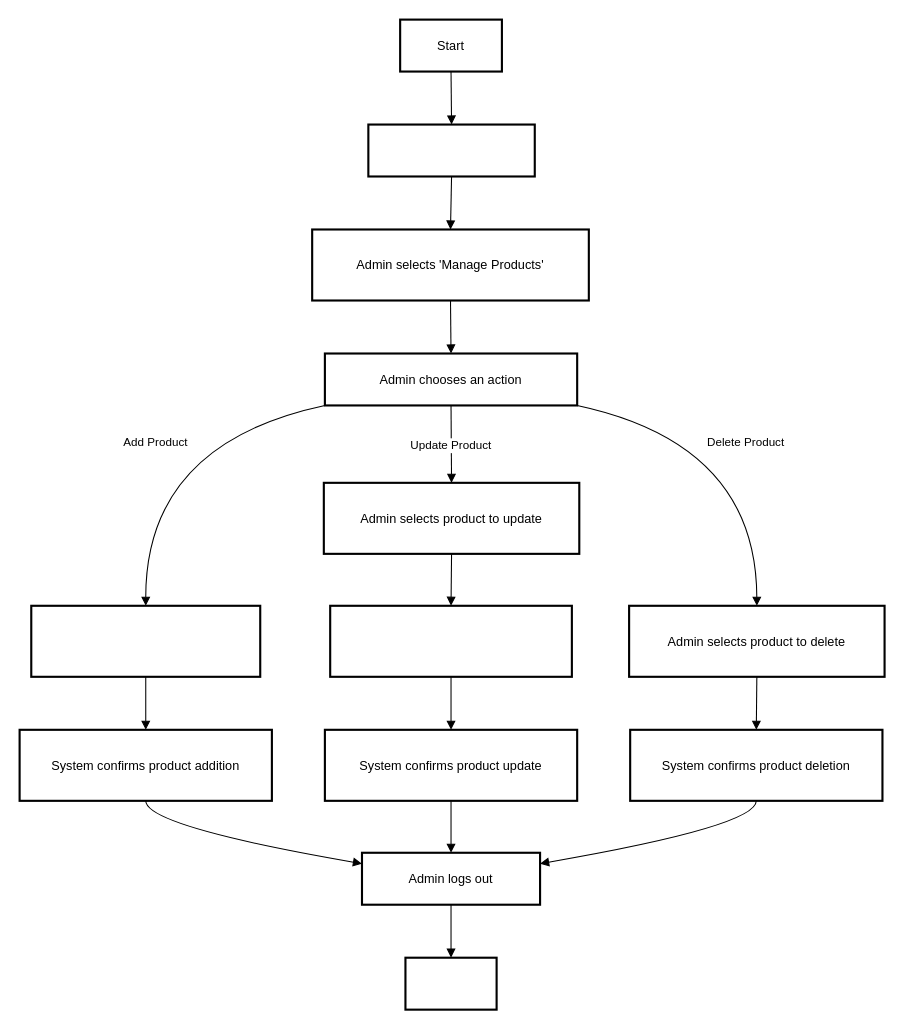
Some shapes in this 903 by 1028 pixel diagram are drawn without their labels. The shapes that lost their labels are listed below. From the top down, each one's centre as x and y in pixels, then its label:
At point 451,150: "Admin logs in".
At point 145,640: "Admin inputs product details".
At point 450,640: "Admin updates product details".
At point 450,983: "End".
